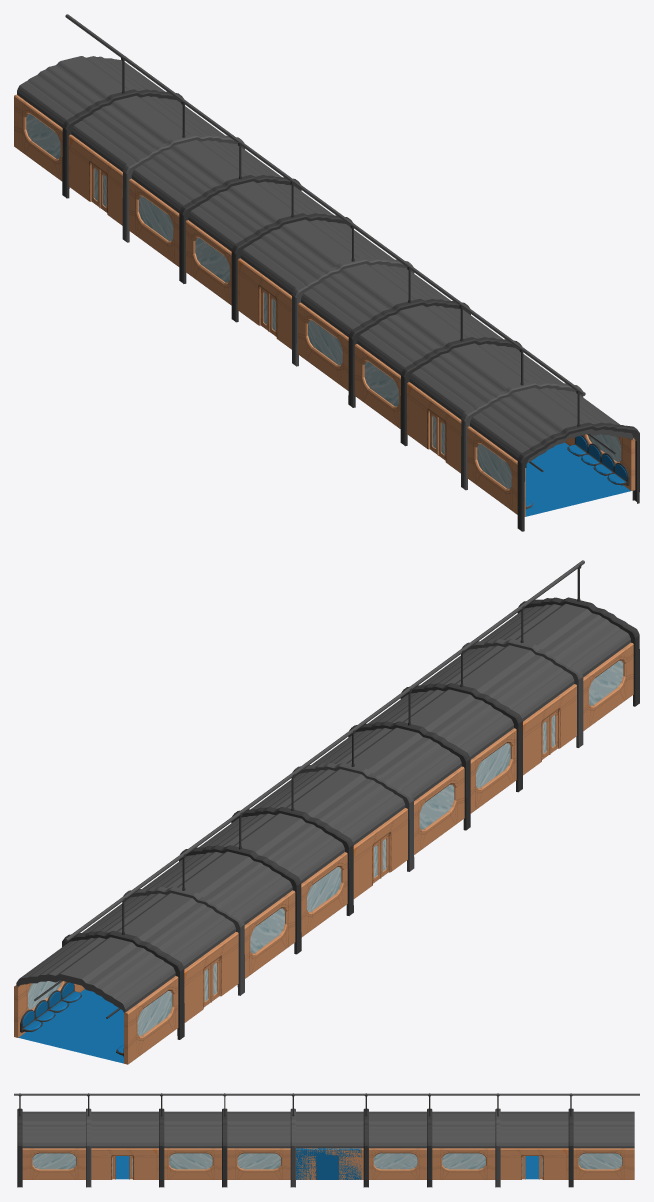
Rendered from Cena_Animada2.fbx.
The picture shows the model from 3 angles, top to bottom: view 1: azimuth 30°, elevation 25°; view 2: azimuth 150°, elevation 25°; view 3: azimuth 270°, elevation 25°; orthographic projection. The views are drawn at different scales.
Visible parts, largest first — view 1: Teto.002, Teto.001, Teto, Plane.005, Vagao_Porta.005, Vagao_Porta.002, Vagao_Porta.001, Vagao_Janela.012, Vagao_Janela.007, Vagao_Janela.006, Vagao_Janela.002, Divisória.005 (+16 smaller); view 2: Teto.001, Teto.002, Teto, Plane.001, Vagao_Porta.001, Vagao_Porta.002, Vagao_Porta.005, Vagao_Janela.007, Vagao_Janela.002, Vagao_Janela.006, Vagao_Janela.012, Vagao_Janela.010 (+16 smaller); view 3: Teto.001, Teto, Teto.002, Parede_Base, Vagao_Porta.003, Vagao_Porta.004, Vagao_Janela.003, Vagao_Janela.008, Vagao_Janela.001, Vagao_Janela.009, Vagao_Janela.005, Vagao_Porta (+19 smaller).
Part boxes in pixels (x1,y1,x2,y2): Teto.002: (357, 305, 632, 490); Teto.001: (17, 56, 281, 242); Teto: (188, 181, 450, 366); Plane.005: (525, 442, 630, 516); Vagao_Porta.005: (408, 383, 461, 473); Vagao_Porta.002: (239, 259, 291, 349); Vagao_Porta.001: (70, 136, 122, 225); Vagao_Janela.012: (467, 426, 525, 516); Vagao_Janela.007: (14, 94, 72, 187); Vagao_Janela.006: (298, 302, 348, 390); Vagao_Janela.002: (129, 178, 179, 266); Divisória.005: (517, 422, 639, 531); Teto.001: (16, 851, 292, 1012); Teto.002: (368, 604, 630, 759); Teto: (199, 727, 461, 883); Plane.001: (18, 989, 123, 1063); Vagao_Porta.001: (184, 932, 238, 1022); Vagao_Porta.002: (353, 808, 407, 898); Vagao_Porta.005: (523, 684, 576, 775); Vagao_Janela.007: (124, 976, 178, 1064); Vagao_Janela.002: (244, 890, 295, 978); Vagao_Janela.006: (414, 766, 464, 854); Vagao_Janela.012: (583, 642, 633, 730); Vagao_Janela.010: (470, 728, 516, 813); Teto.001: (432, 1108, 634, 1187); Teto: (227, 1108, 426, 1187); Teto.002: (22, 1108, 221, 1187); Parede_Base: (296, 1148, 361, 1179); Vagao_Porta.003: (500, 1148, 566, 1179); Vagao_Porta.004: (91, 1148, 156, 1179); Vagao_Janela.003: (566, 1148, 634, 1179); Vagao_Janela.008: (432, 1148, 495, 1179); Vagao_Janela.001: (227, 1148, 290, 1179); Vagao_Janela.009: (22, 1148, 85, 1179); Vagao_Janela.005: (361, 1148, 426, 1179); Vagao_Porta: (296, 1148, 361, 1179).
Size of the model in its own units: 728 by 740 by 5461.
